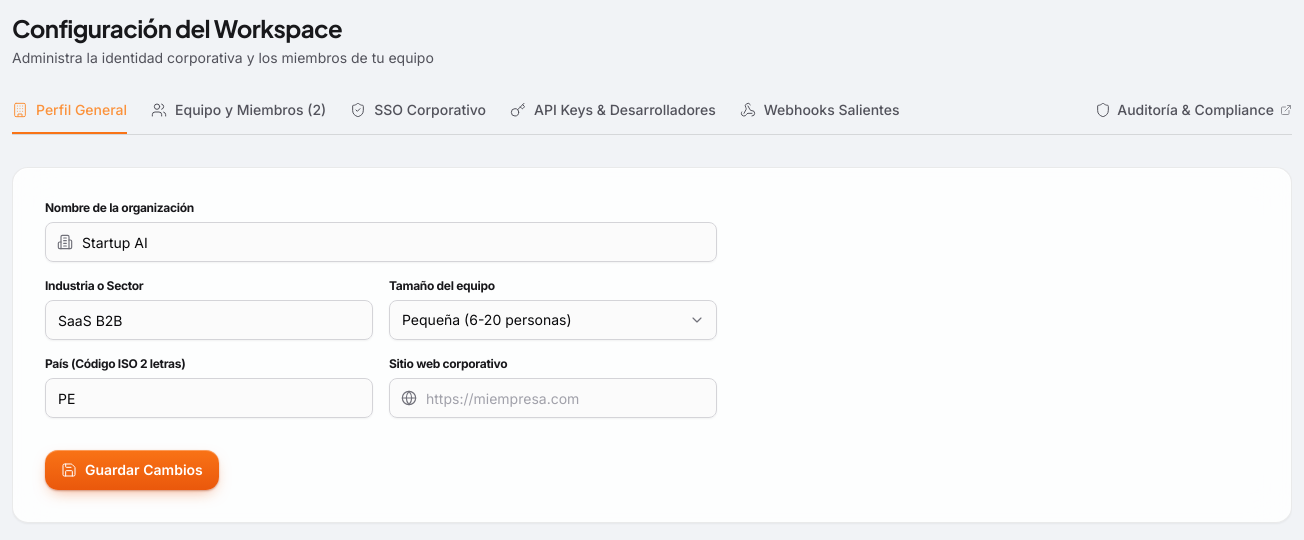
Test case: SettingsPage Component › renderiza el perfil general y permite alternar a la pestaña de miembros
Expected: the field showing "Startup AI" is shown, [45,222,717,262]
Expected: the field showing "SaaS B2B" is shown, [45,300,373,340]
Cambiar a la pestaña de miembros
Click the button "Equipo y Miembros (2)" at (239, 117), box [151,100,326,134]
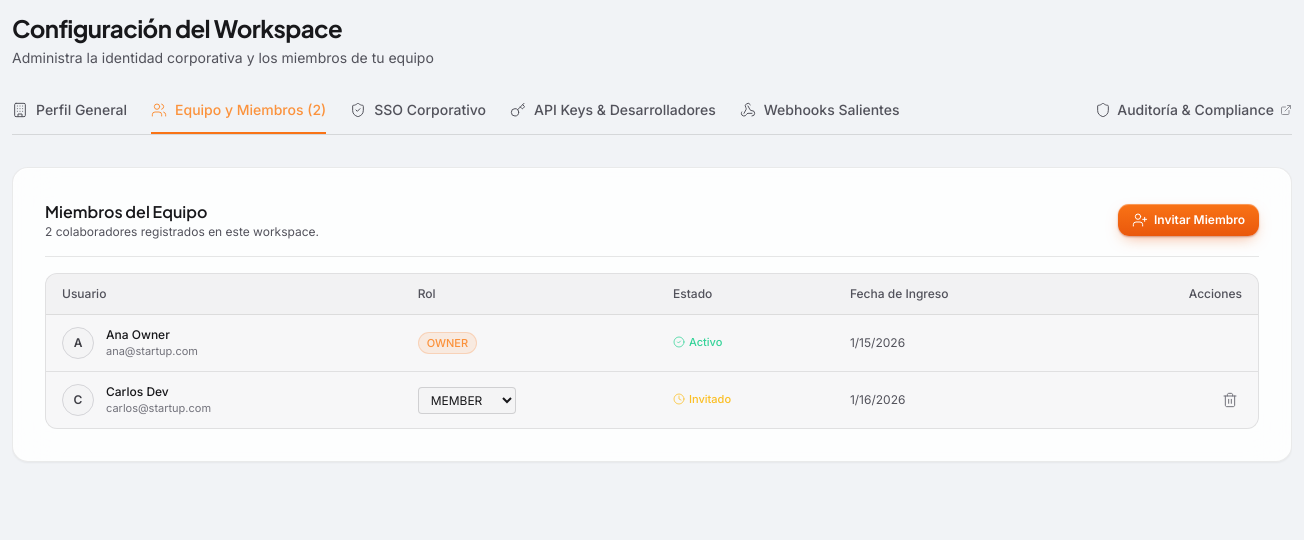
Now the text "Ana Owner" is shown, box [106,327,170,342]
Now the text "Carlos Dev" is shown, box [106,384,169,399]
Now the text "carlos@startup.com" is shown, box [106,400,211,416]
